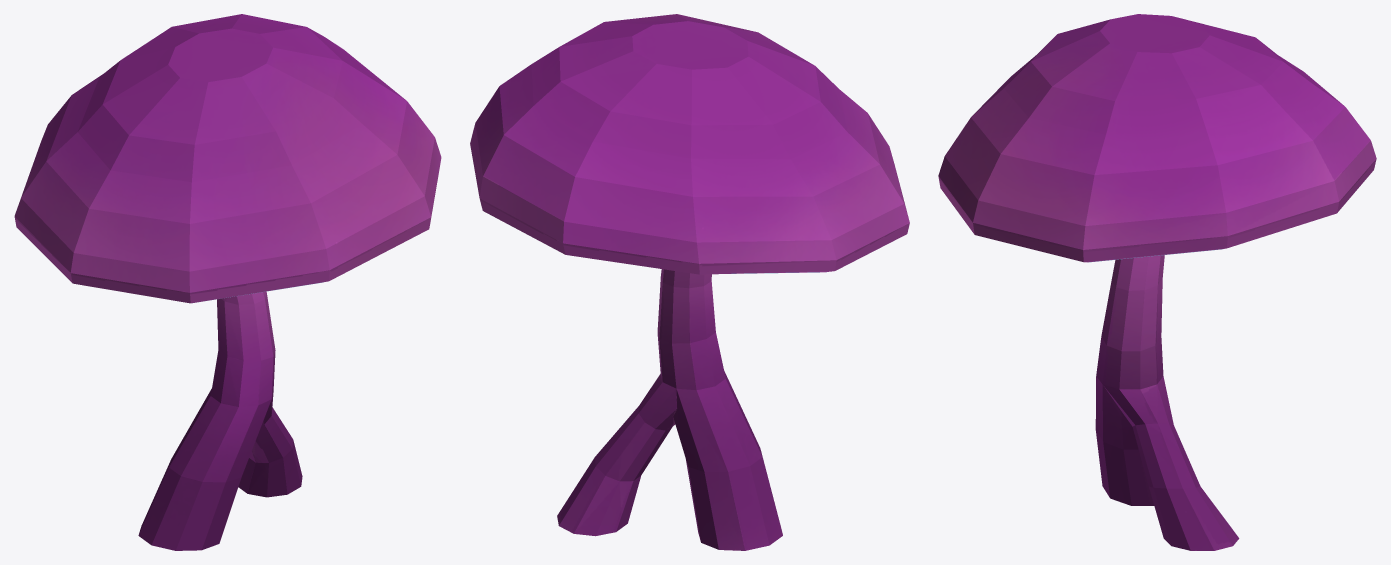
Rendered from big_mushroom2.fbx.
The picture shows the model from 3 angles, left to right: view 1: azimuth 30°, elevation 25°; view 2: azimuth 150°, elevation 25°; view 3: azimuth 270°, elevation 25°; orthographic projection. The views are drawn at different scales.
Parts seen in each view (by area): view 1: Cylinder; view 2: Cylinder; view 3: Cylinder.
Boxes of the visible parts, x1,y1,x2,y2 form: Cylinder: [14, 14, 441, 550]; Cylinder: [470, 14, 909, 550]; Cylinder: [938, 14, 1376, 550].
Size of the model in its own units: 1454 by 1784 by 1472.
